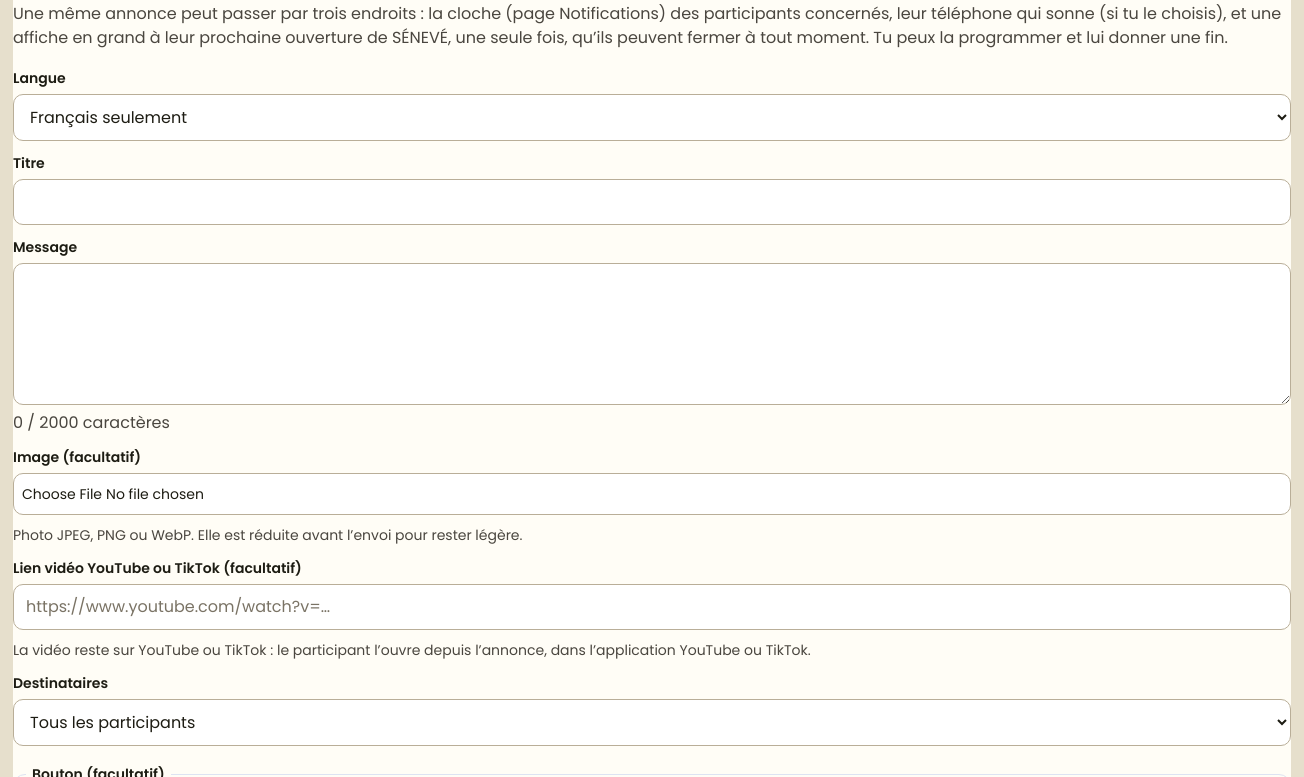
annonces dans l’administration › demande une confirmation, puis réutilise le même identifiant après un échec
Type "Nouvelle formation" into the field labelled "Titre" at (652, 202), box top-left (13, 179), bottom-right (1291, 225)
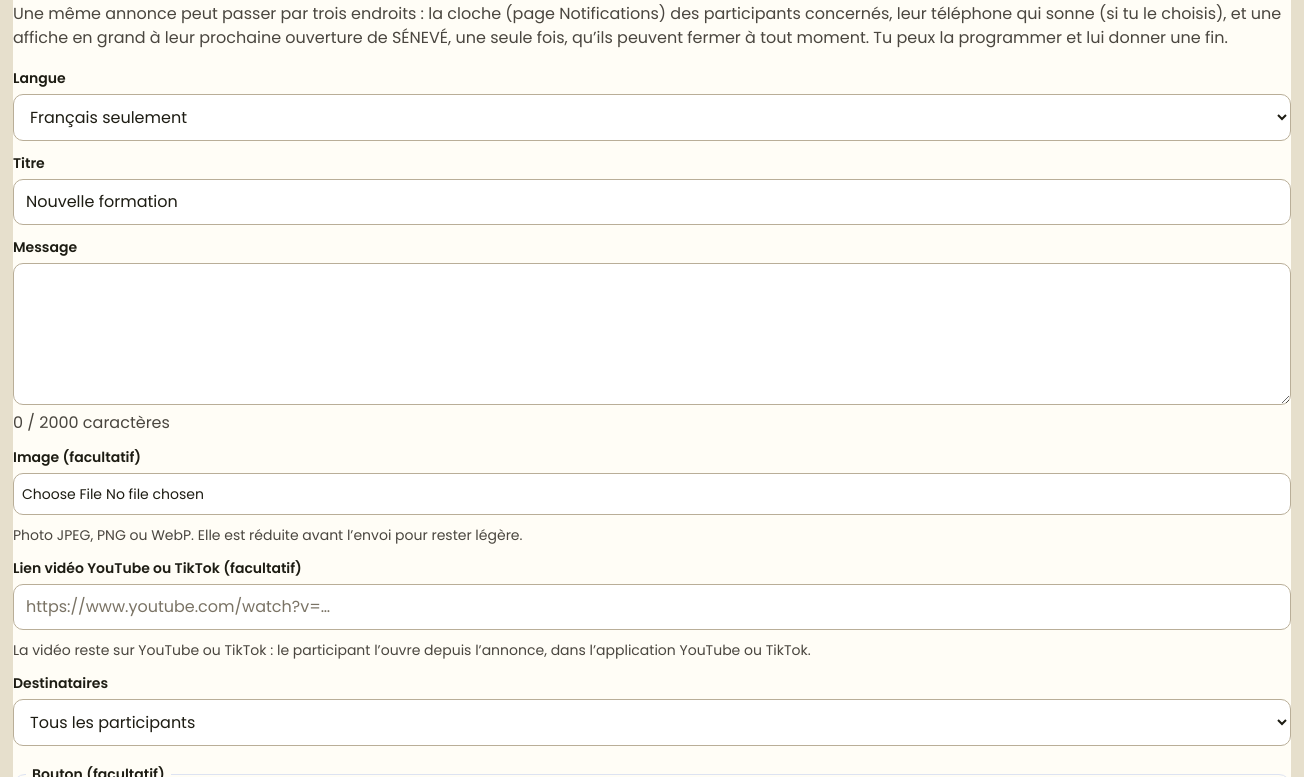
Type "Ouverture lundi." into the text box labelled "Message" at (652, 334), box top-left (13, 263), bottom-right (1291, 405)
(page scrolled)
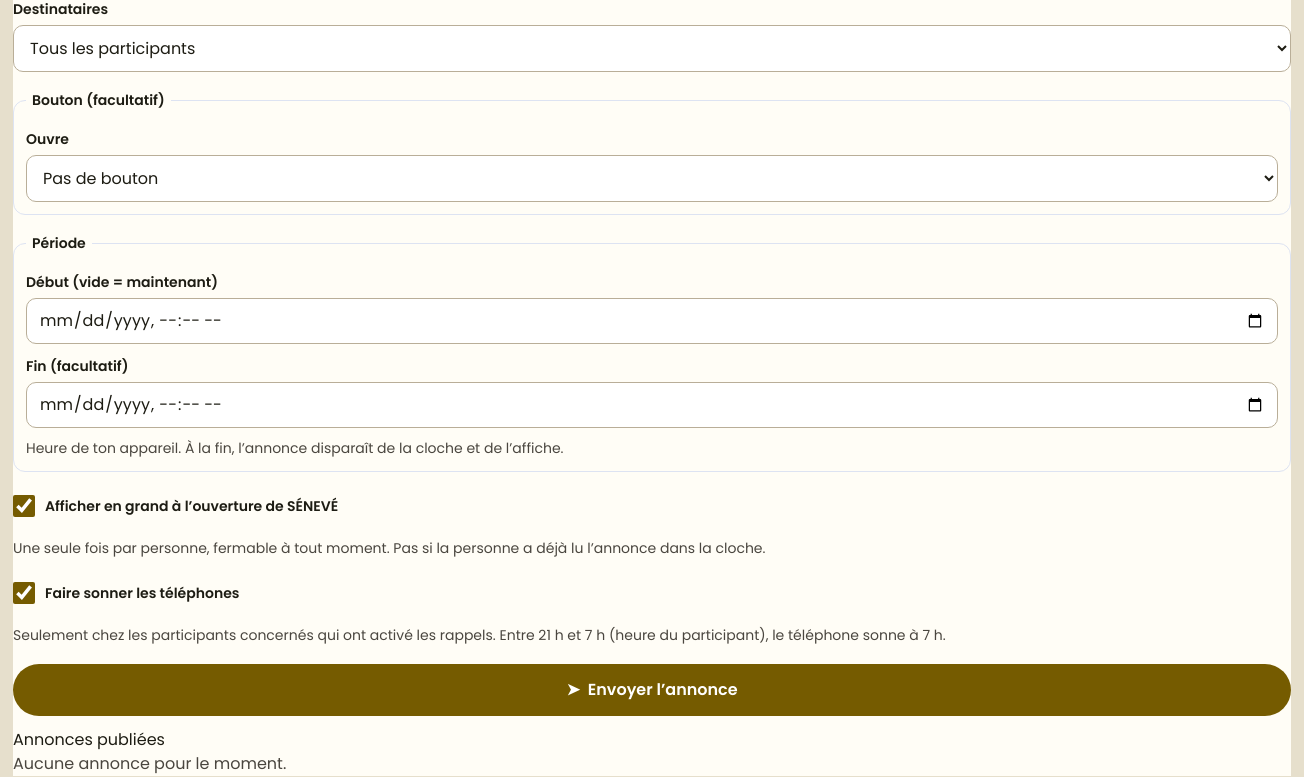
Click the button "➤ Envoyer l’annonce" at (652, 690), box top-left (13, 664), bottom-right (1291, 716)
(page scrolled)
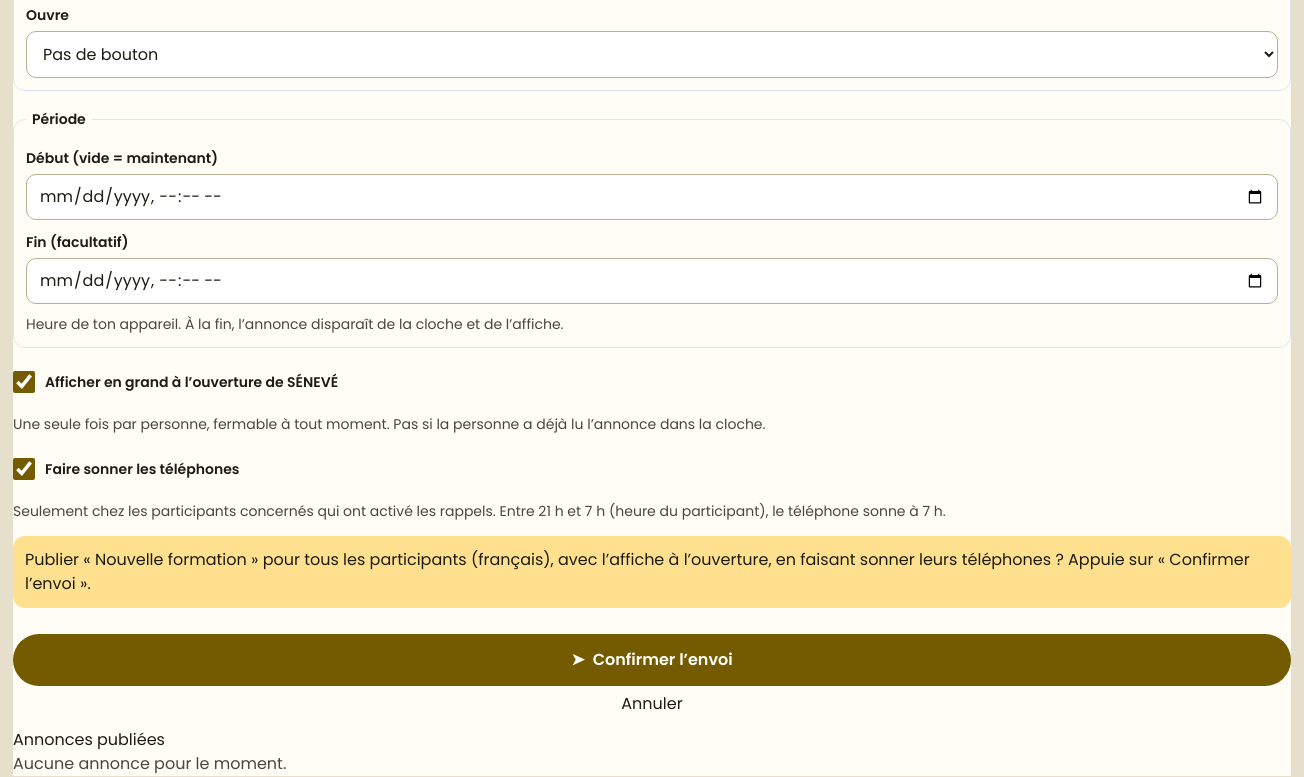
Result: the text "Publier « Nouvelle formation » pour tous les participants (français)" is shown at top-left (13, 536), bottom-right (1291, 608)
Click the button "➤ Confirmer l’envoi" at (652, 660), box top-left (13, 634), bottom-right (1291, 686)
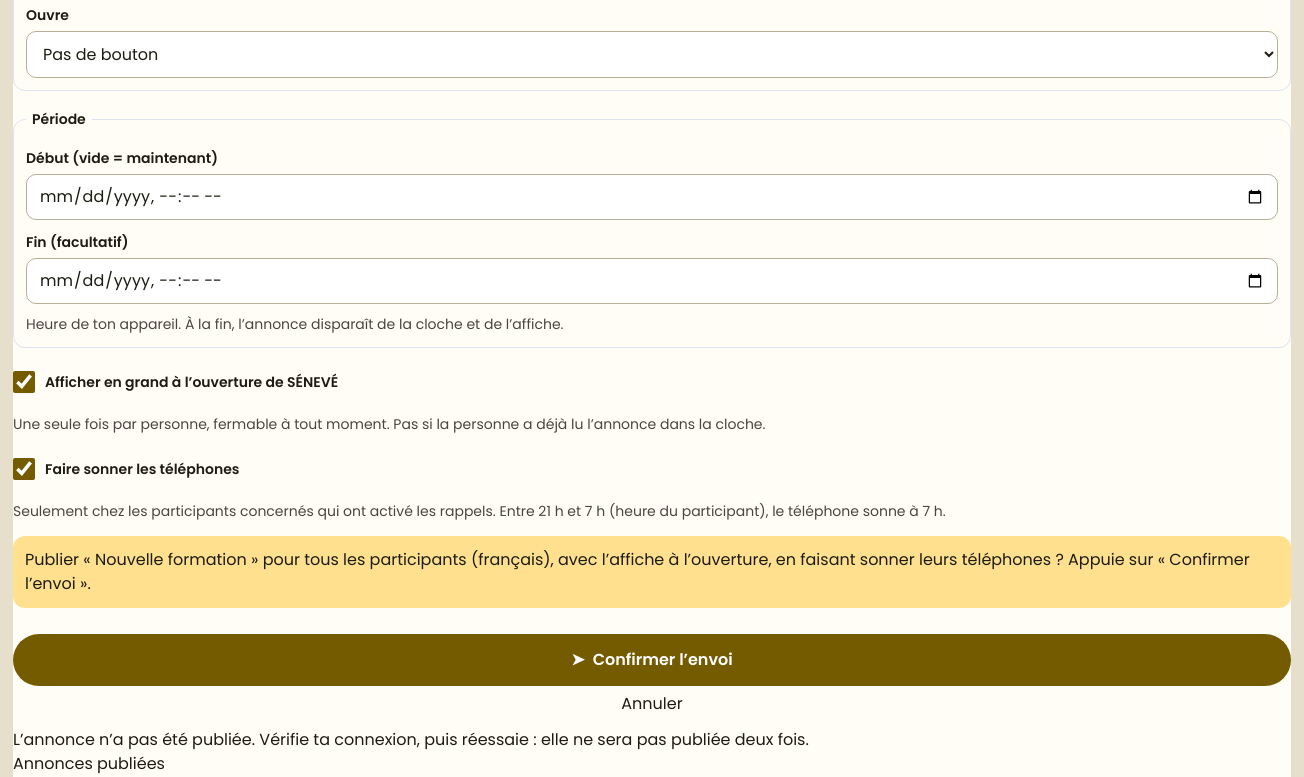
Result: the text "L’annonce n’a pas été publiée" is shown at top-left (13, 728), bottom-right (809, 751)
Click the button "➤ Confirmer l’envoi" at (652, 660), box top-left (13, 634), bottom-right (1291, 686)
(page scrolled)
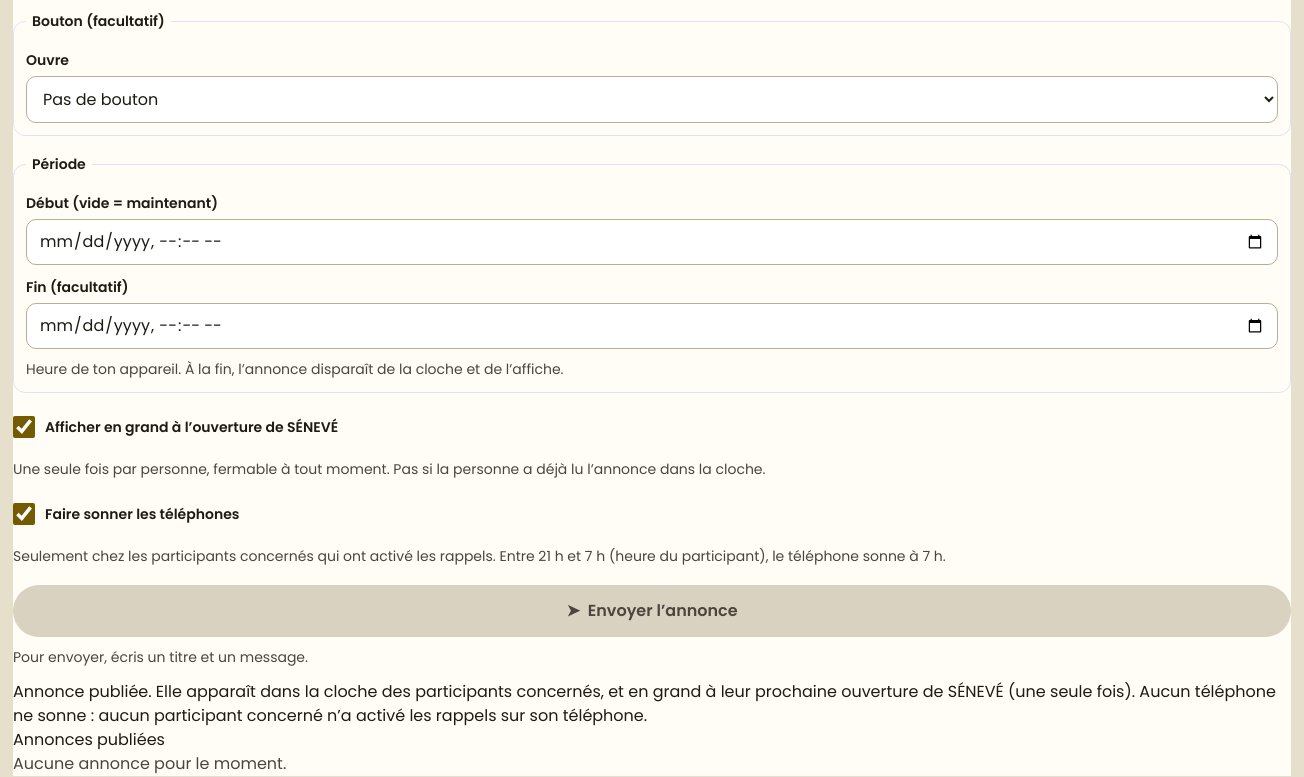
Result: the text "Annonce publiée. Elle apparaît dans la cloche des participants concernés, et en grand" is shown at top-left (13, 680), bottom-right (1276, 727)
